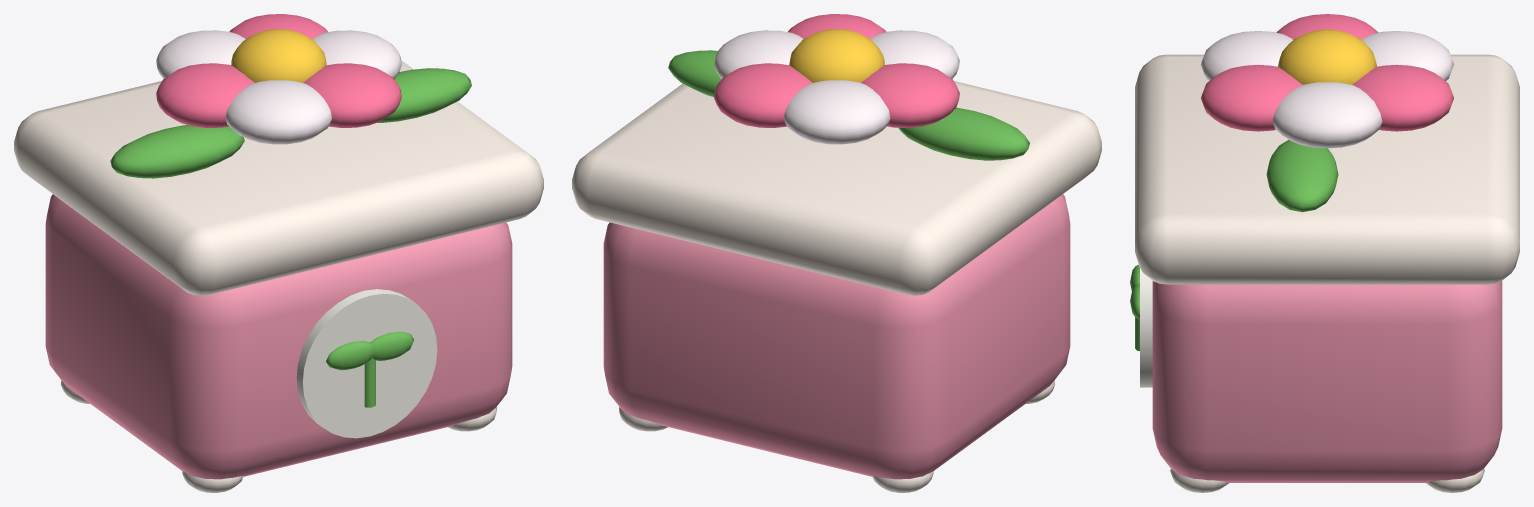
The model's file is Gen_Flower.fbx.
3 renders of one model, left to right at view 1: azimuth 30°, elevation 25°; view 2: azimuth 150°, elevation 25°; view 3: azimuth 270°, elevation 25°, orthographic. The views are drawn at different scales.
Parts seen in each view (by area): view 1: Gen_Flower_Body, Gen_Flower_Lid, Gen_Flower_Petal (×6), Gen_Flower_Emblem, Gen_Flower_Leaf (×2), Gen_Flower_Center, Gen_Flower_EmLeaf (×2), Gen_Flower_Foot, Gen_Flower_Stem; view 2: Gen_Flower_Body, Gen_Flower_Lid, Gen_Flower_Petal (×6), Gen_Flower_Leaf (×2), Gen_Flower_Center, Gen_Flower_Foot; view 3: Gen_Flower_Body, Gen_Flower_Lid, Gen_Flower_Petal (×6), Gen_Flower_Center, Gen_Flower_Leaf, Gen_Flower_Emblem, Gen_Flower_Foot (×2).
Boxes of the visible parts, <box> form: Gen_Flower_Body: <box>45,194,512,479</box>; Gen_Flower_Lid: <box>14,60,543,295</box>; Gen_Flower_Petal (×6): <box>156,14,401,144</box>; Gen_Flower_Emblem: <box>296,289,437,438</box>; Gen_Flower_Leaf (×2): <box>110,68,471,178</box>; Gen_Flower_Center: <box>231,29,326,82</box>; Gen_Flower_EmLeaf (×2): <box>326,331,413,370</box>; Gen_Flower_Foot: <box>182,471,243,492</box>; Gen_Flower_Stem: <box>364,357,375,407</box>; Gen_Flower_Body: <box>603,194,1070,479</box>; Gen_Flower_Lid: <box>572,81,1101,295</box>; Gen_Flower_Petal (×6): <box>714,14,959,144</box>; Gen_Flower_Leaf (×2): <box>668,50,1029,160</box>; Gen_Flower_Center: <box>789,29,884,82</box>; Gen_Flower_Foot: <box>872,471,933,492</box>; Gen_Flower_Body: <box>1152,281,1502,482</box>; Gen_Flower_Lid: <box>1135,54,1519,284</box>; Gen_Flower_Petal (×6): <box>1200,14,1454,148</box>; Gen_Flower_Center: <box>1277,29,1377,84</box>; Gen_Flower_Leaf: <box>1266,140,1338,212</box>; Gen_Flower_Emblem: <box>1140,268,1152,387</box>; Gen_Flower_Foot (×2): <box>1170,469,1484,492</box>.
Bounding box in the file's own units: 17.4 × 17.18 × 15.6.
